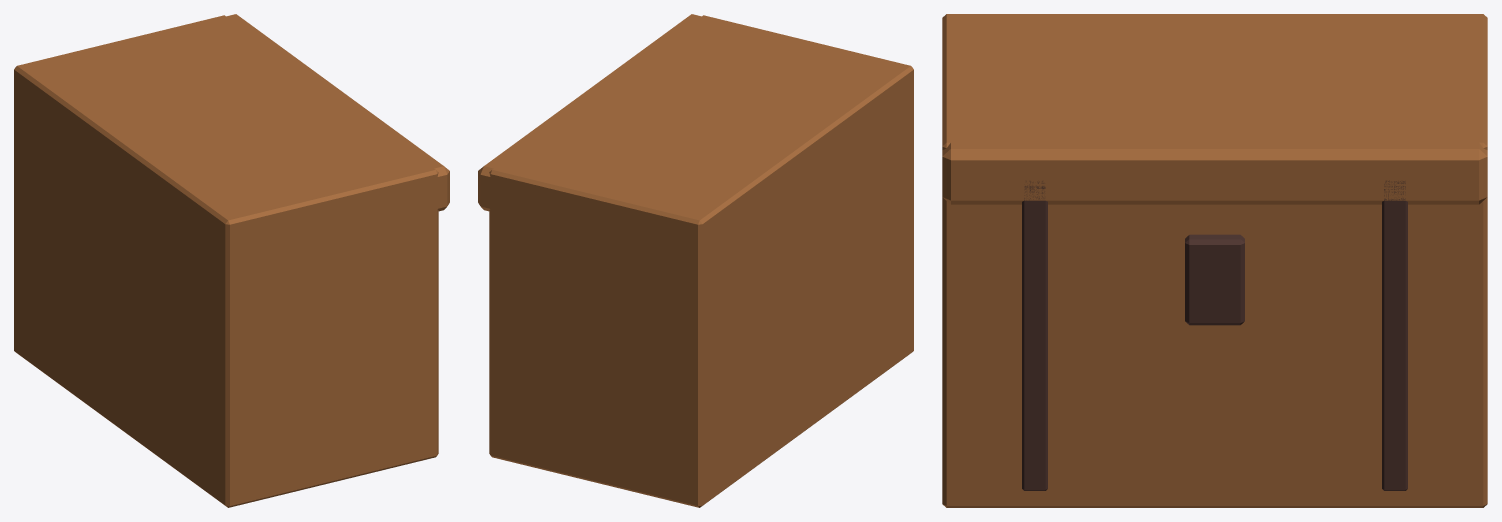
The model's file is coffre_perimetre.glb.
The picture shows the model from 3 angles, left to right: view 1: azimuth 30°, elevation 25°; view 2: azimuth 150°, elevation 25°; view 3: azimuth 270°, elevation 25°; orthographic projection. The views are drawn at different scales.
Visible parts, largest first — view 1: coffre_perimetre; view 2: coffre_perimetre; view 3: coffre_perimetre.
Boxes of the visible parts, x1=… form: coffre_perimetre: x1=14, y1=14, x2=449, y2=507; coffre_perimetre: x1=478, y1=14, x2=913, y2=507; coffre_perimetre: x1=942, y1=14, x2=1487, y2=507.
Size of the model in its own units: 0.7 by 0.85 by 1.15.
Materials: 1 (1 with a texture image).
